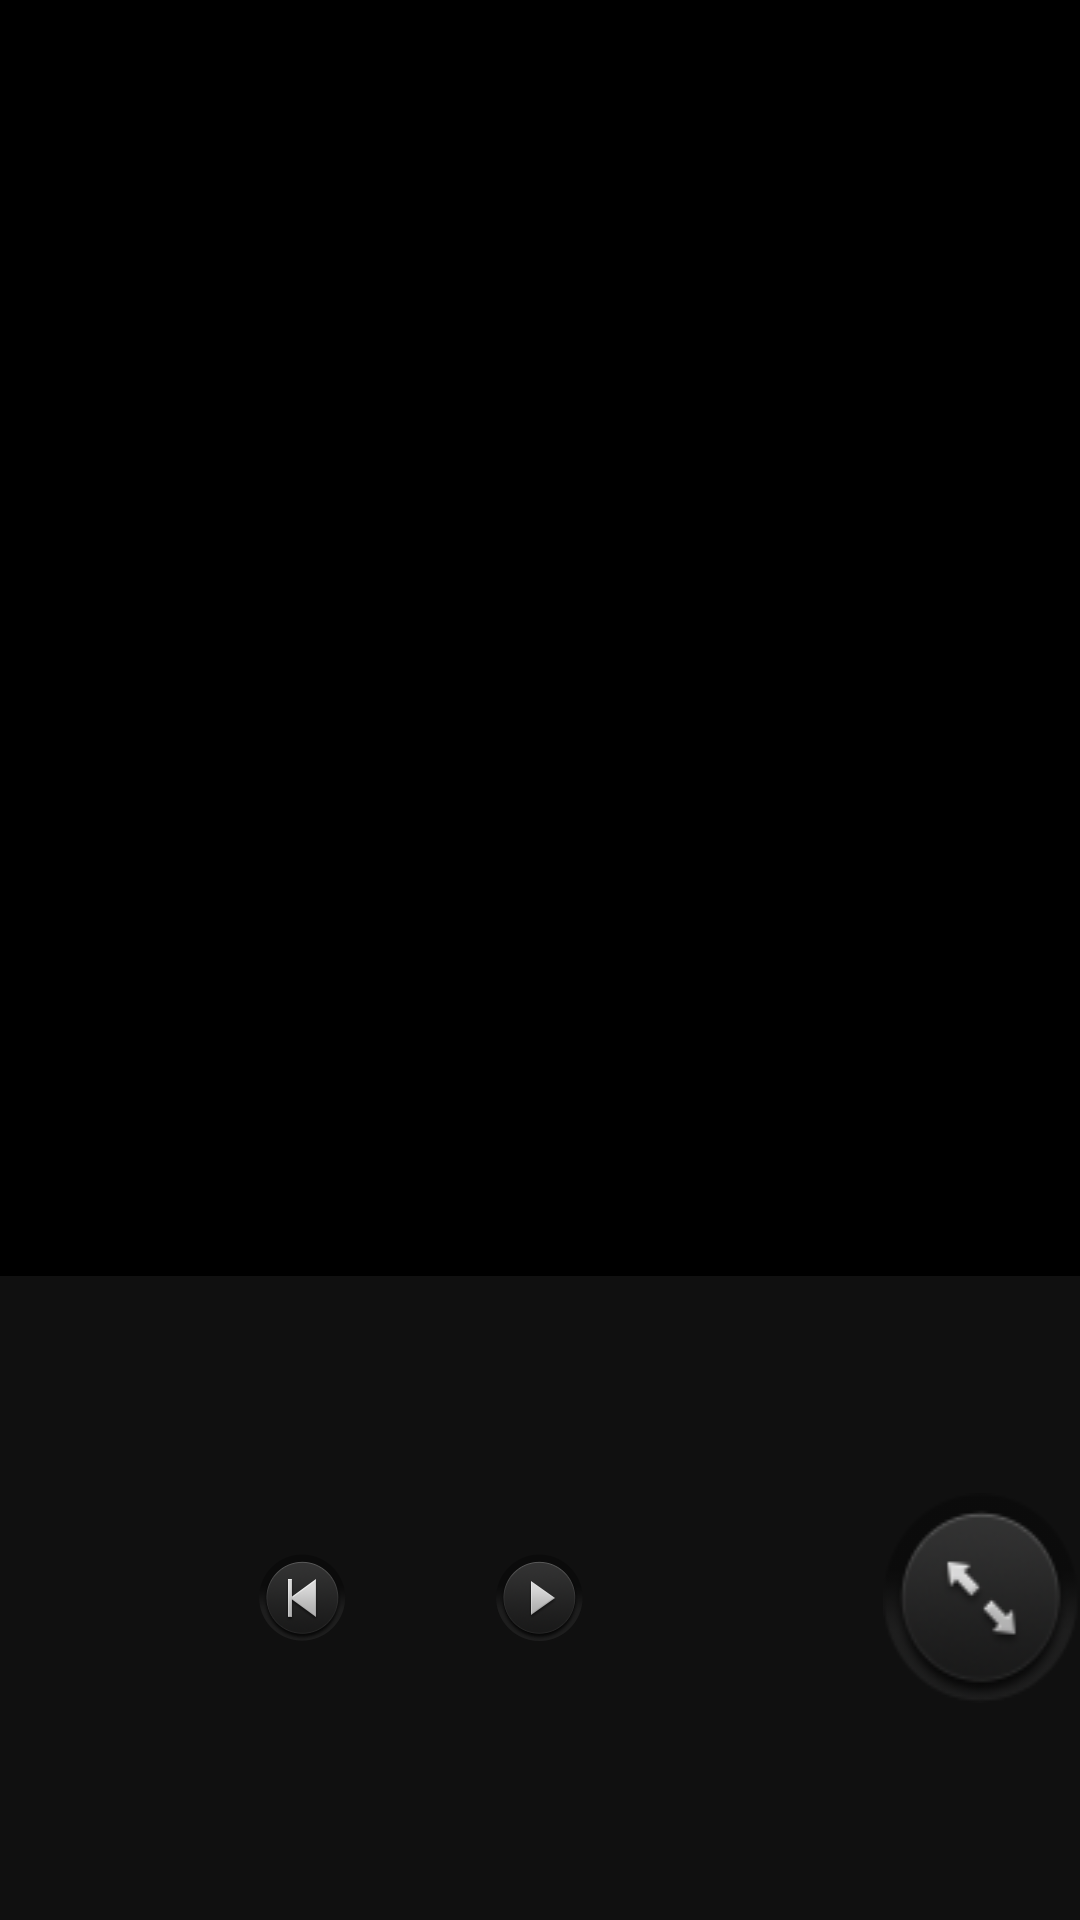

Where icons sit on this 1080px×1920px app screen, as (left=x1, top=y1, right=x2, bottom=y2):
music play: (left=504, top=1562, right=575, bottom=1615)
music pre: (left=267, top=1562, right=338, bottom=1617)
